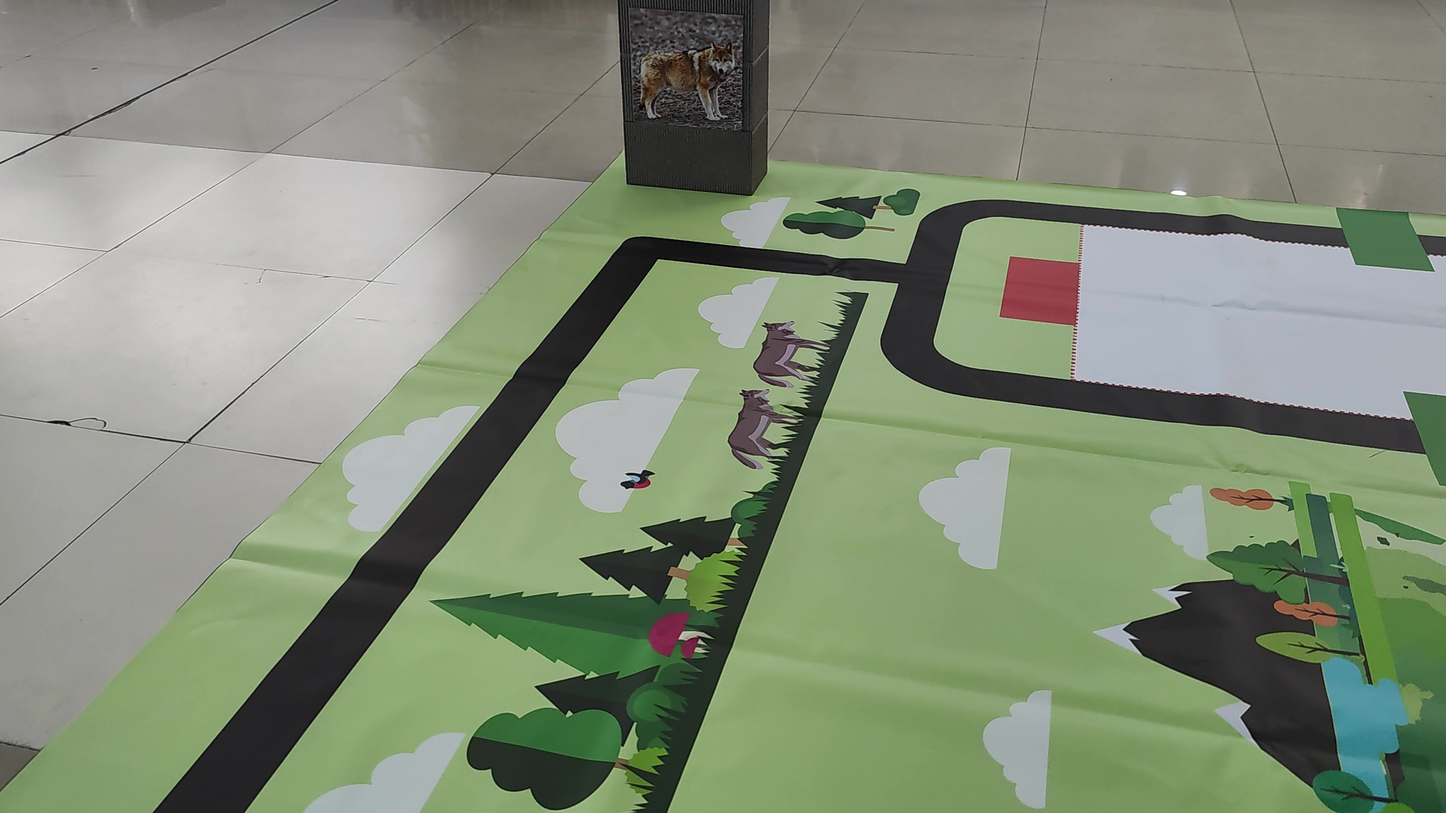wolf: (635, 23, 755, 132)
